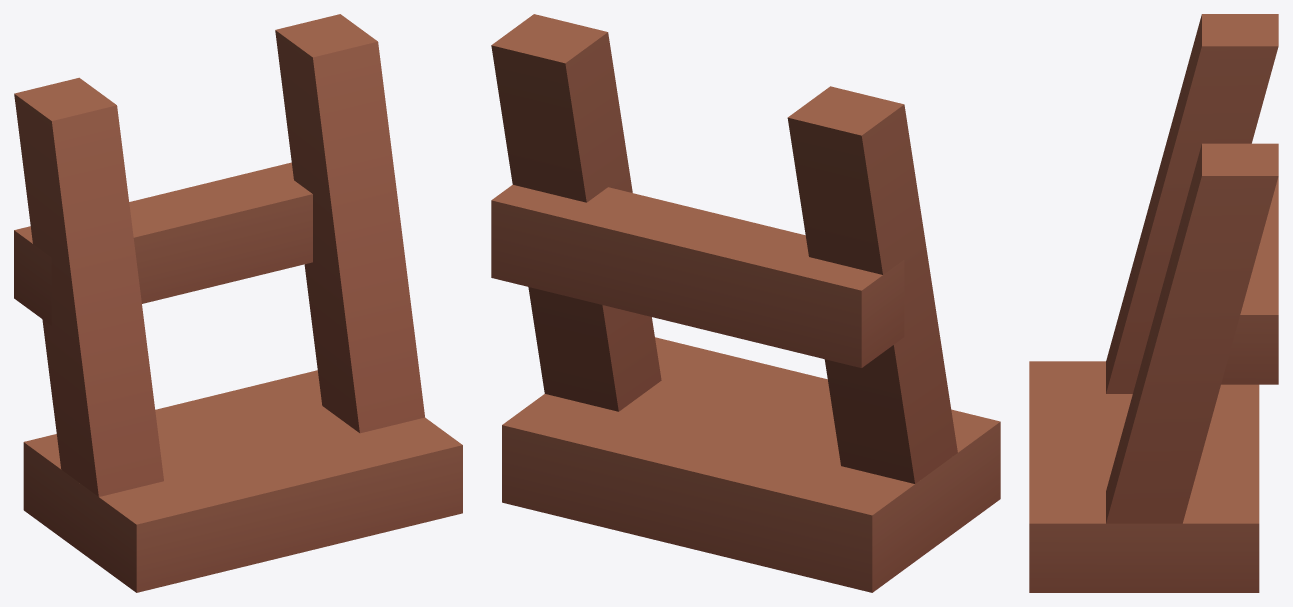
File: estanteArmas1.glb
3 renders of one model, left to right at view 1: azimuth 30°, elevation 25°; view 2: azimuth 150°, elevation 25°; view 3: azimuth 270°, elevation 25°, orthographic. The views are drawn at different scales.
Parts seen in each view (by area): view 1: weaponrack; view 2: weaponrack; view 3: weaponrack.
Part boxes in pixels (bbox=[...]): weaponrack: bbox=[14, 14, 462, 592]; weaponrack: bbox=[491, 14, 1000, 592]; weaponrack: bbox=[1029, 14, 1278, 592].
Size of the model in its own units: 0.2 by 0.24 by 0.13.
Materials: 1 (1 with a texture image).
